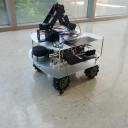cart: (28, 28, 106, 92)
